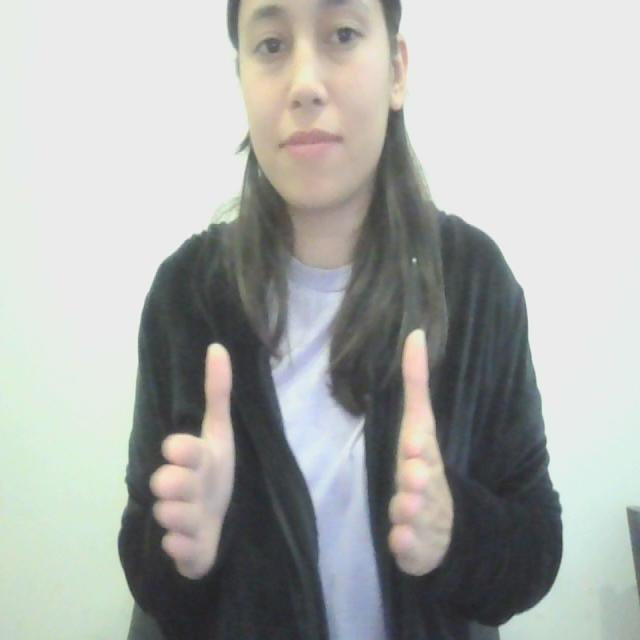Nasil: (144, 323, 468, 585)
